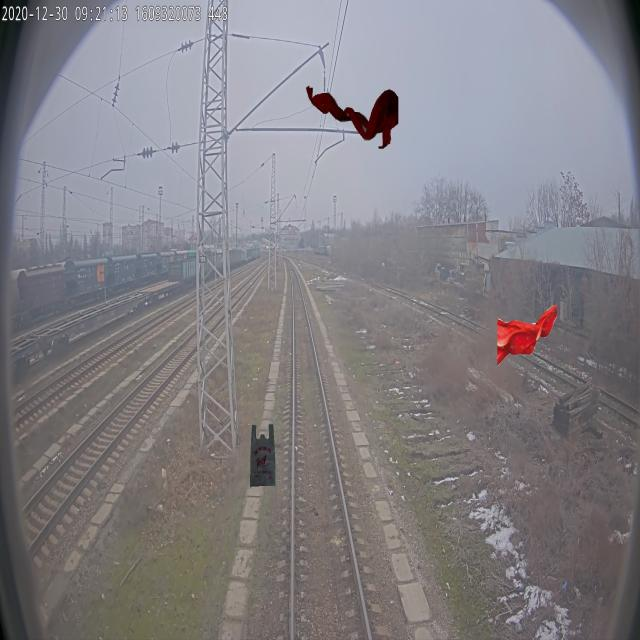balloon: (305, 84, 398, 148)
floating object: (497, 303, 557, 367)
plastic bag: (250, 423, 276, 487)
